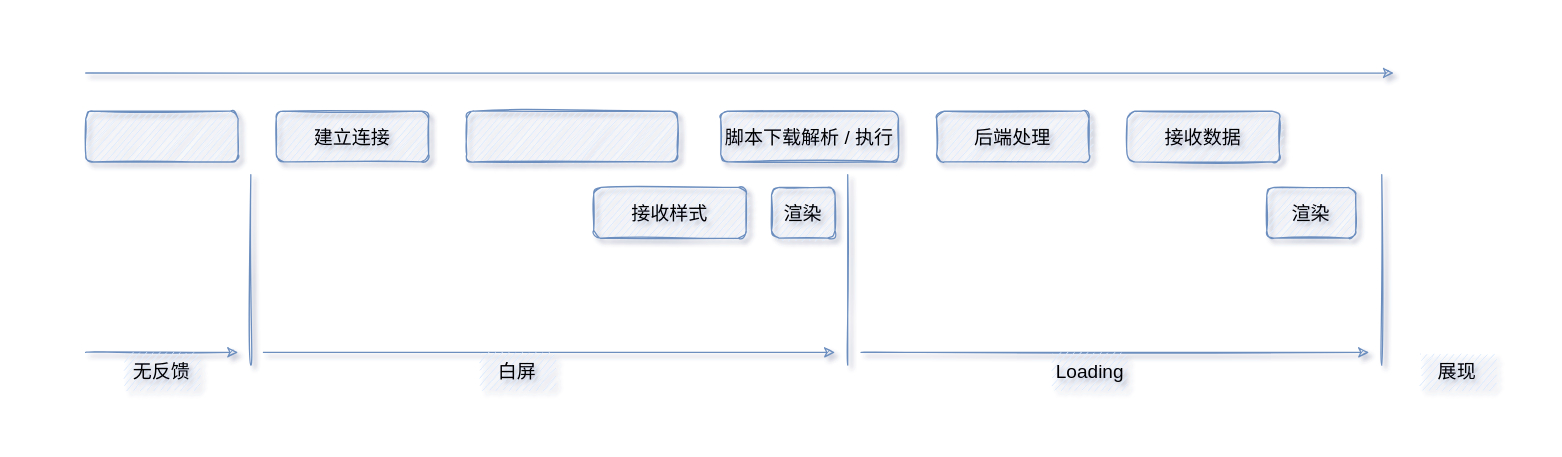
Image size: 1562x457. Some labels were removed from this diagram. Here are the shapes that lost their labels. From the top down, the centre of each, then its label:
the point at 161,136: webView初始化
the point at 571,136: 接收页面
